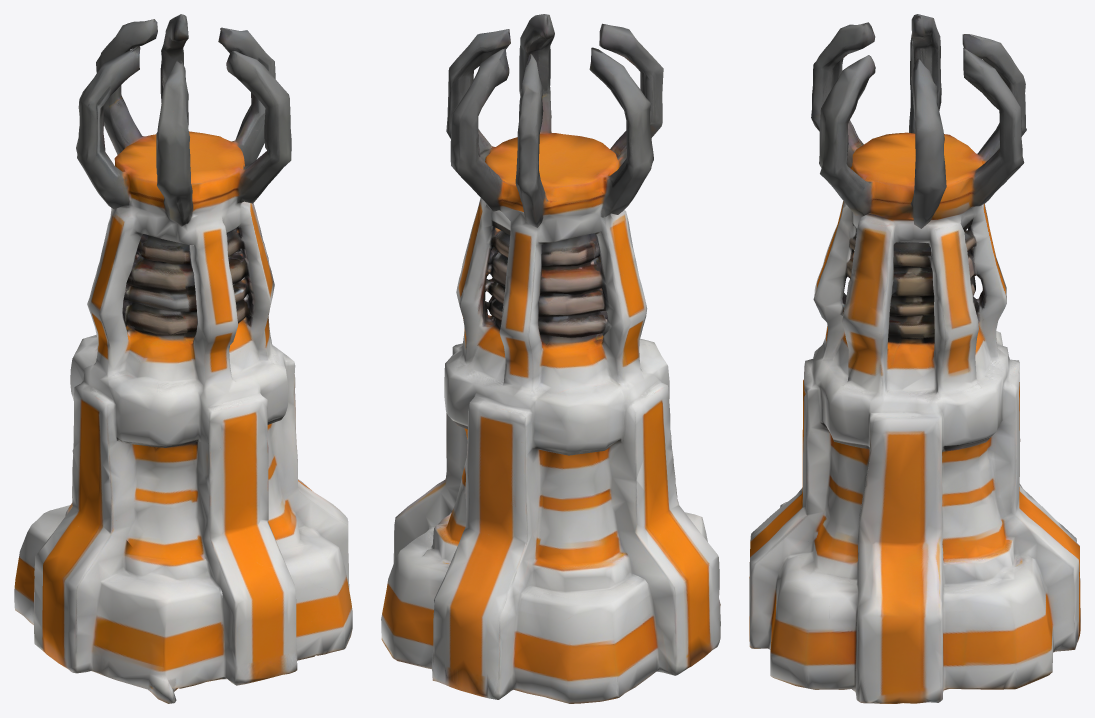
The model's file is torre_de_tesla.glb.
3 views of the same model, side by side, from view 1: azimuth 30°, elevation 25°; view 2: azimuth 150°, elevation 25°; view 3: azimuth 270°, elevation 25° (orthographic). The views are drawn at different scales.
Bounding box in the file's own units: 0.9939 × 2 × 0.9978.
Materials: 1 (1 with a texture image).
